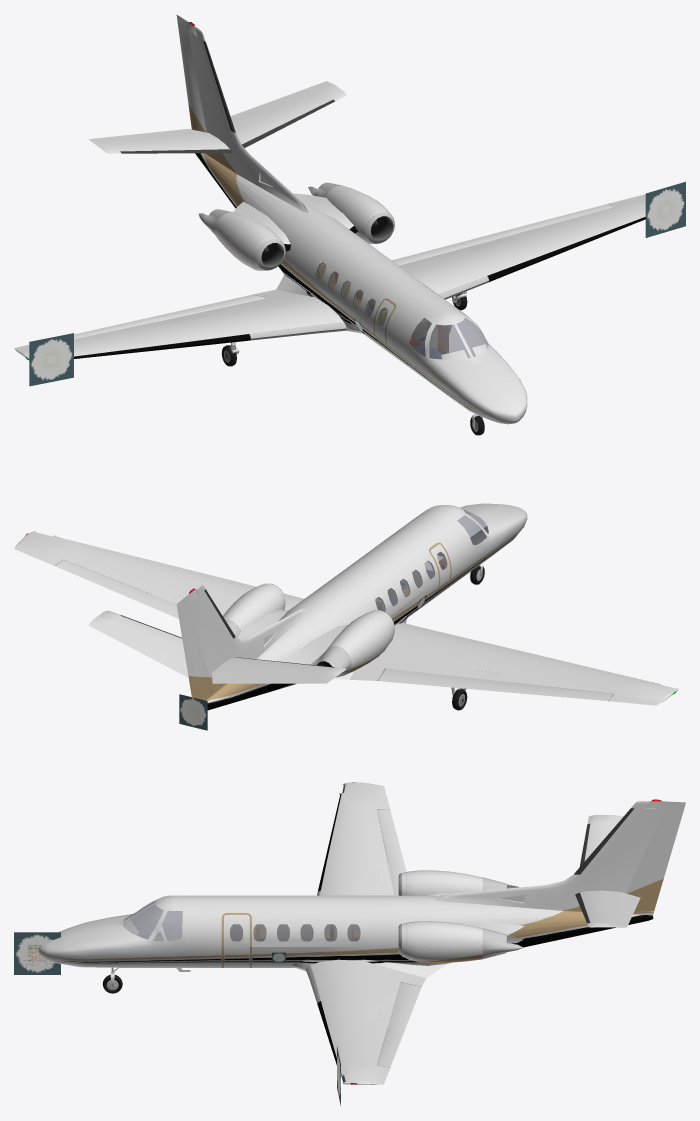
Rendered from civil_citation.glb.
3 renders of one model, top to bottom at view 1: azimuth 30°, elevation 25°; view 2: azimuth 150°, elevation 25°; view 3: azimuth 270°, elevation 25°, orthographic. The views are drawn at different scales.
Visible parts, largest first — view 1: whitenav_0; view 2: whitenav_0; view 3: whitenav_0.
Part boxes in pixels (x1,y1,x2,y2): whitenav_0: (14,15,685,435); whitenav_0: (14,503,678,730); whitenav_0: (14,782,685,1105).
Bounding box in the file's own units: 15.48 × 4.59 × 14.4.
9 materials, 4 textured.
